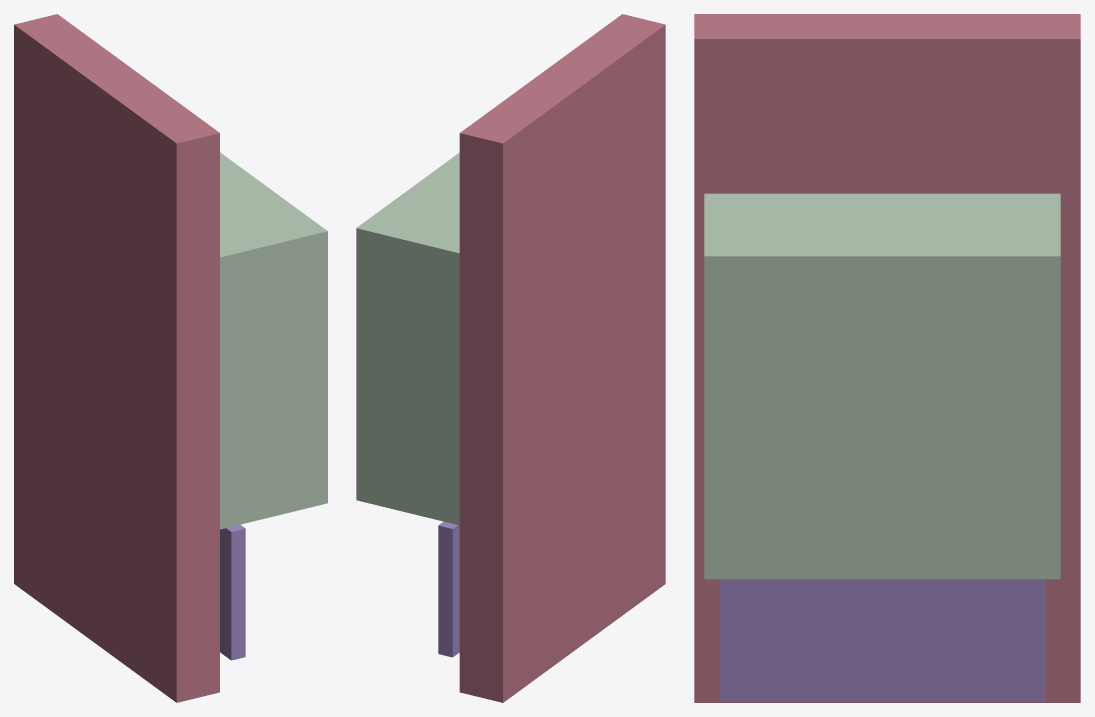
Rendered from 199518_pred.glb.
3 views of the same model, side by side, from view 1: azimuth 30°, elevation 25°; view 2: azimuth 150°, elevation 25°; view 3: azimuth 270°, elevation 25° (orthographic). The views are drawn at different scales.
Visible parts, largest first — view 1: world; view 2: world; view 3: world.
Boxes of the visible parts, x1=… form: world: x1=14, y1=14, x2=327, y2=702; world: x1=356, y1=14, x2=665, y2=702; world: x1=694, y1=14, x2=1080, y2=702.
Size of the model in its own units: 2.15 by 7.4 by 3.9.
